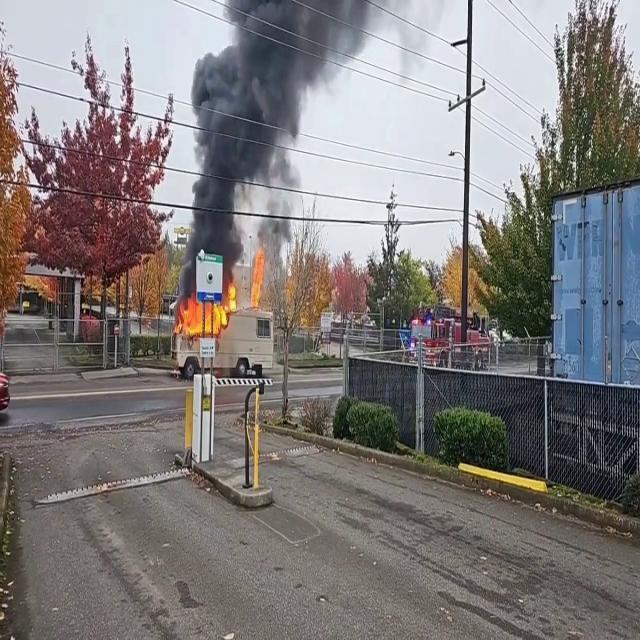Fire: (174, 283, 240, 337)
Smoke: (182, 0, 348, 275)
